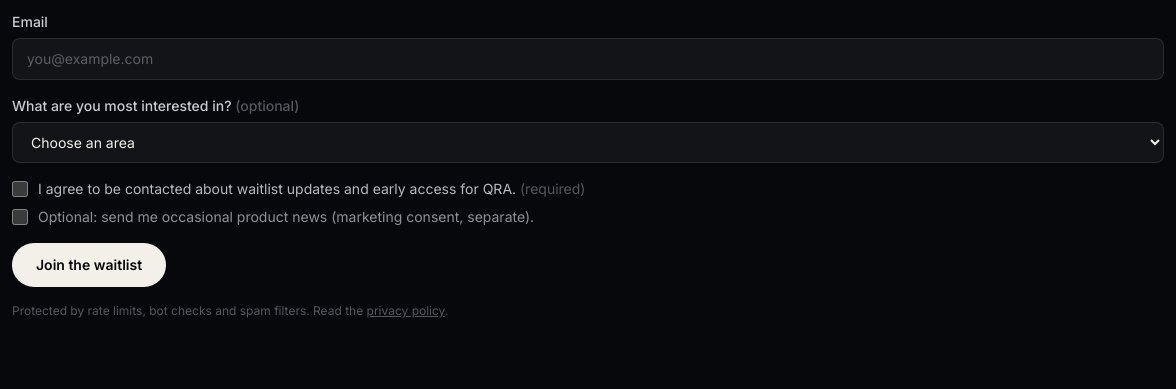
WaitlistForm › shows client-side validation errors before submitting
Click the button with test id "waitlist-submit": x=89, y=265 [12,243,166,287]
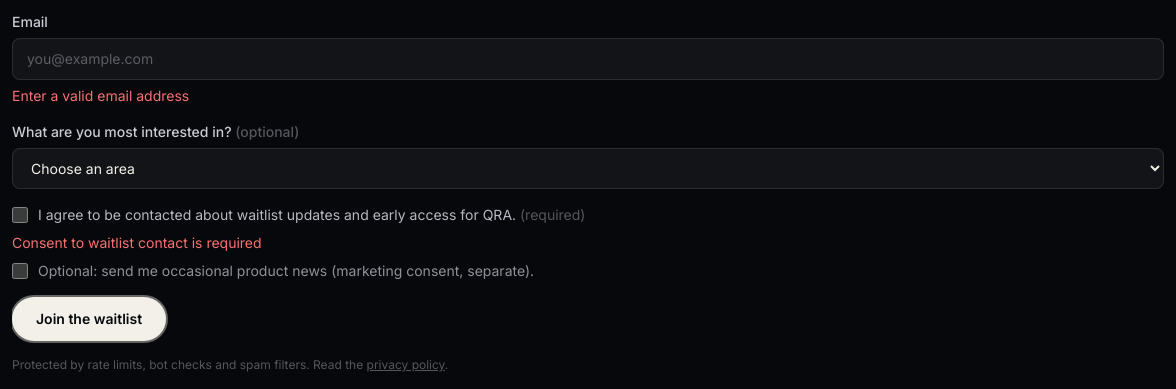
Expected: the text "Enter a valid email address" is shown, [12,87,189,104]
Expected: the text "Consent to waitlist contact is required" is shown, [12,234,262,251]
